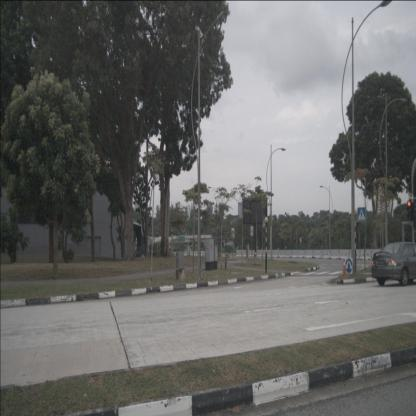cone: (342, 258, 348, 279)
